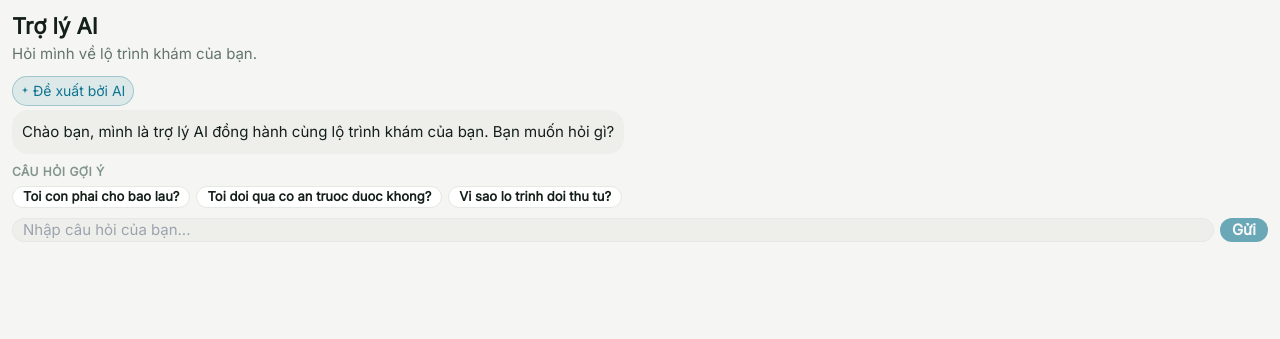
AssistantPage (/assistant FAB chat) › shows a thinking indicator while a turn is pending, then an AI-labelled reply
The width and height of the screenshot is (1280, 339).
Type "Toi con phai cho bao lau?" into the field named "Ô nhập tin nhắn cho trợ lý" at (613, 230), box x1=12 y1=218 x2=1214 y2=242
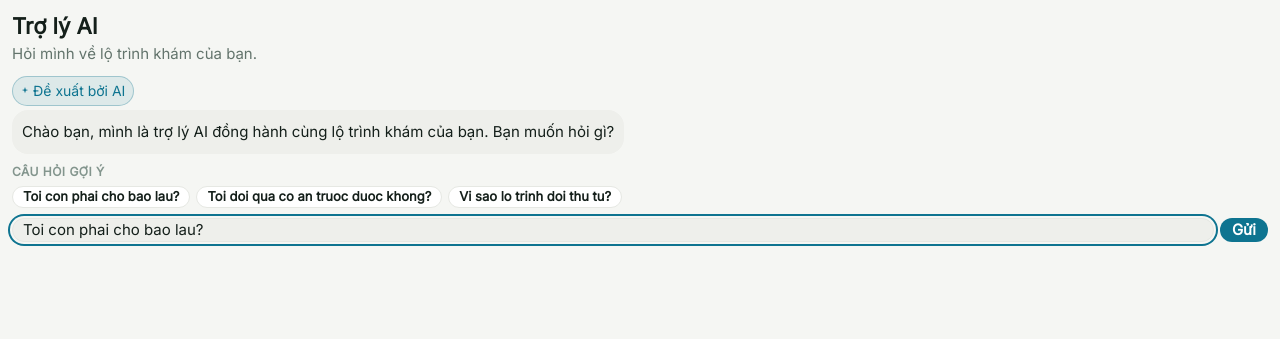
Click the button "Gửi" at (1244, 230), box x1=1220 y1=218 x2=1268 y2=242
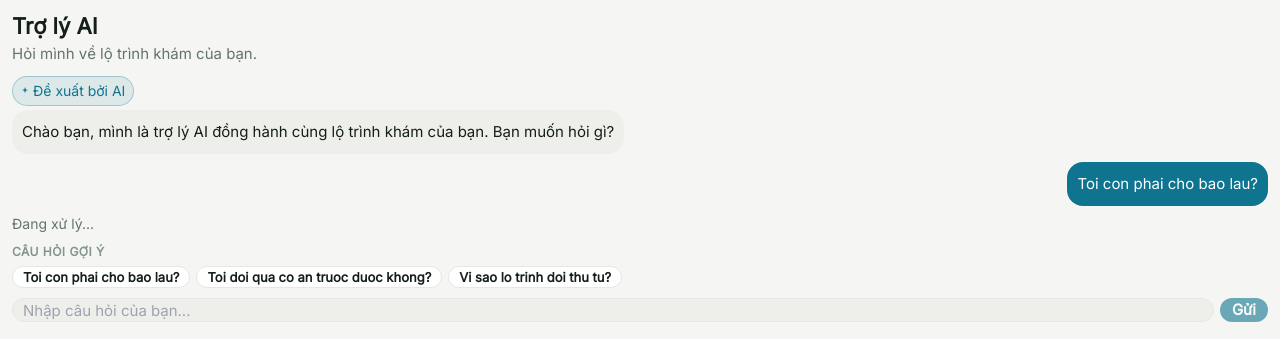
Expected: the element with test id "ai-chip" is shown, x1=12 y1=76 x2=134 y2=106
Expected: the text "Đang xử lý..." is shown, x1=12 y1=215 x2=94 y2=232
